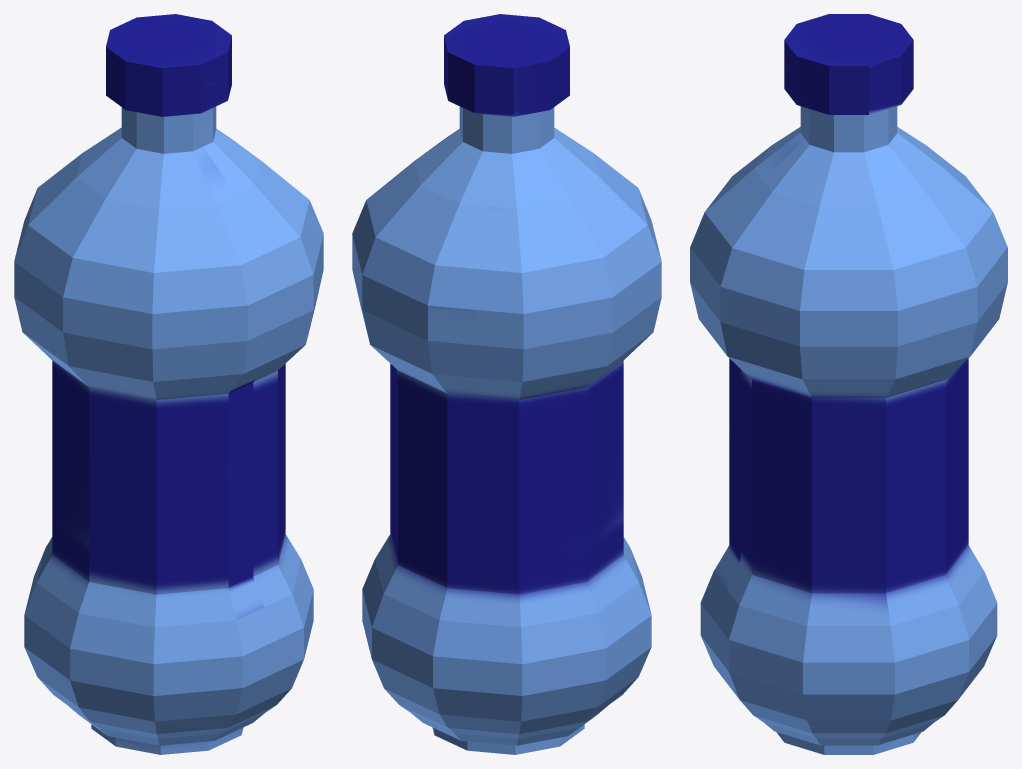
Rendered from Blue Bottle.glb.
3 renders of one model, left to right at view 1: azimuth 30°, elevation 25°; view 2: azimuth 150°, elevation 25°; view 3: azimuth 270°, elevation 25°, orthographic.
Parts seen in each view (by area): view 1: Cylinder; view 2: Cylinder; view 3: Cylinder.
Part boxes in pixels (bbox=[...]): Cylinder: bbox=[14, 14, 323, 754]; Cylinder: bbox=[352, 14, 661, 754]; Cylinder: bbox=[690, 14, 1007, 754].
Size of the model in its own units: 3.79 by 9.45 by 3.98.
1 material, 1 textured.
